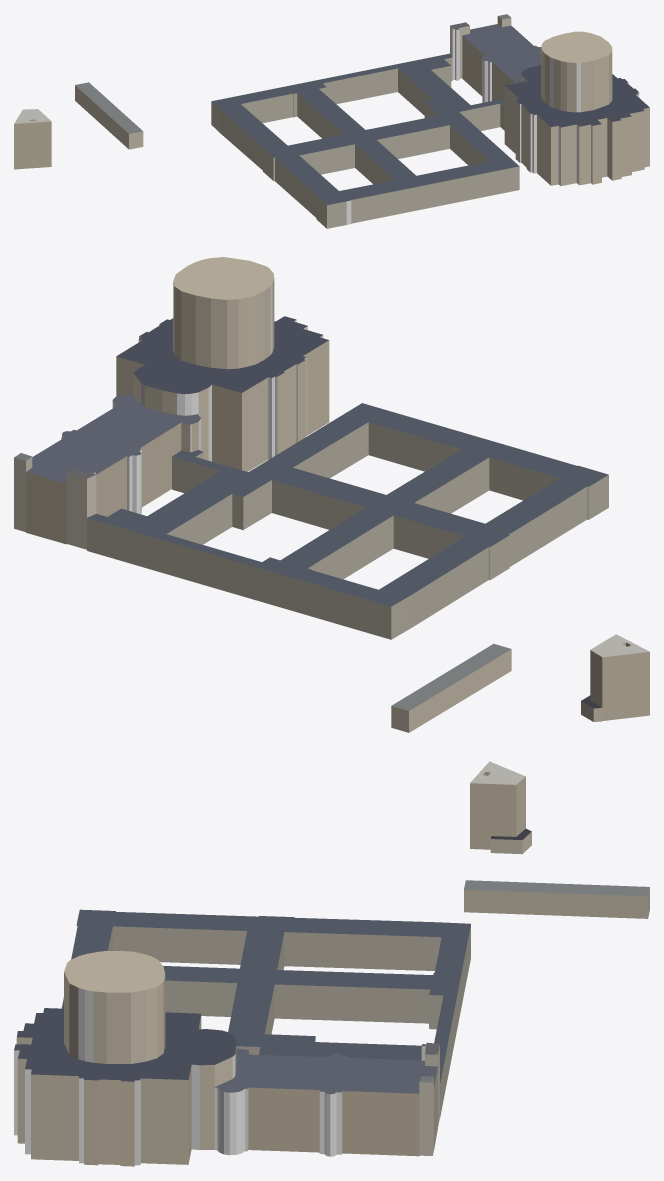
3 views of the same model, one above another, from view 1: azimuth 30°, elevation 25°; view 2: azimuth 150°, elevation 25°; view 3: azimuth 270°, elevation 25° (orthographic). The views are drawn at different scales.
Parts seen in each view (by area): view 1: tuile; view 2: tuile; view 3: tuile.
Part boxes in pixels (x1,y1,x2,y2): tuile: [14, 14, 649, 228]; tuile: [14, 257, 649, 732]; tuile: [14, 761, 649, 1166].
Bounding box in the file's own units: 260 × 56.66 × 203.
